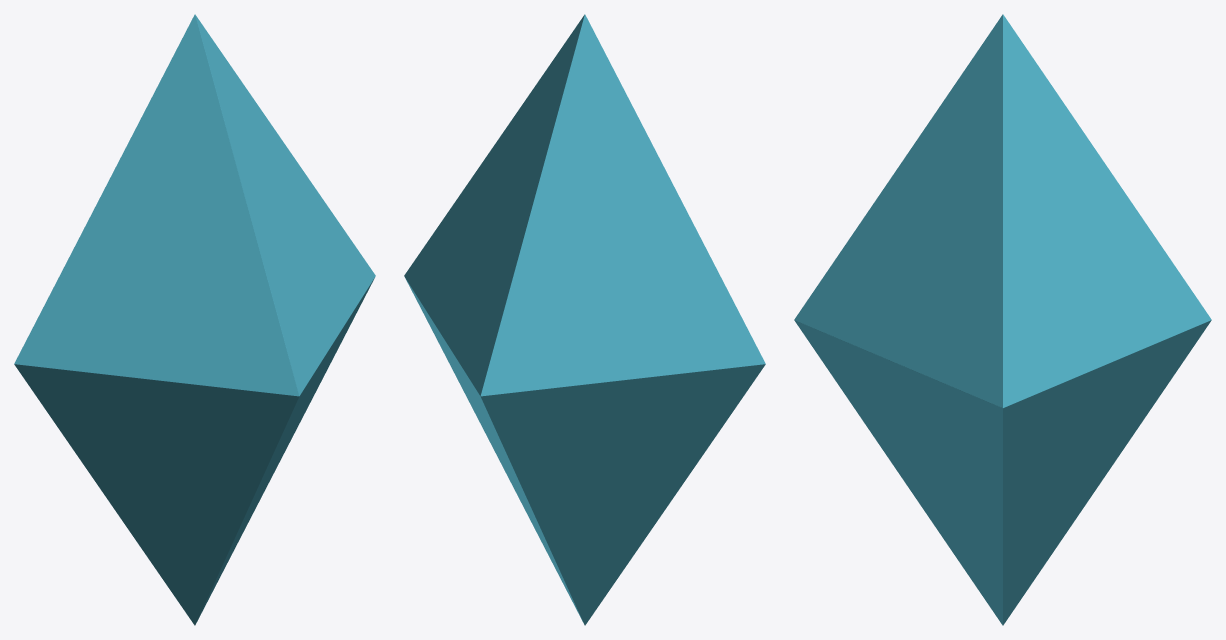
Rendered from Marker.fbx.
3 views of the same model, side by side, from view 1: azimuth 30°, elevation 25°; view 2: azimuth 150°, elevation 25°; view 3: azimuth 270°, elevation 25° (orthographic).
Visible parts, largest first — view 1: Marker; view 2: Marker; view 3: Marker.
Part boxes in pixels (<box>): Marker: <box>14,14,375,625</box>; Marker: <box>404,14,765,625</box>; Marker: <box>794,14,1211,625</box>.
Size of the model in its own units: 26.13 by 42.22 by 26.13.
